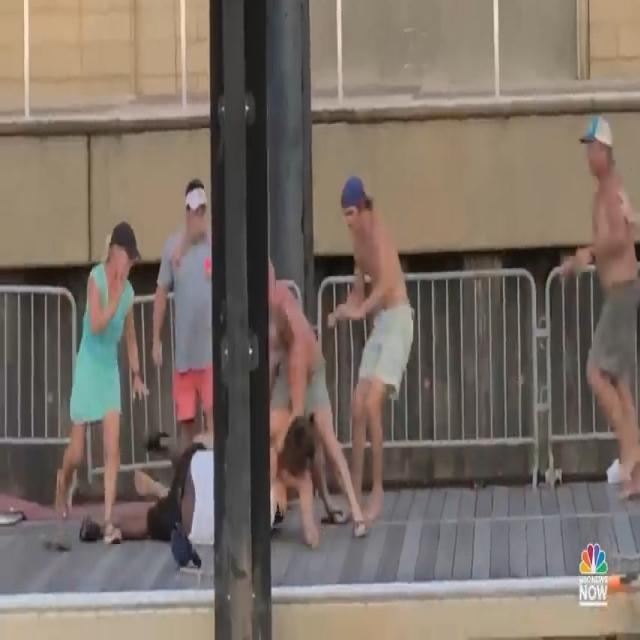fight: (81, 260, 370, 550)
non-fight: (323, 166, 414, 525), (56, 217, 152, 553), (559, 111, 640, 496), (148, 171, 214, 457)
